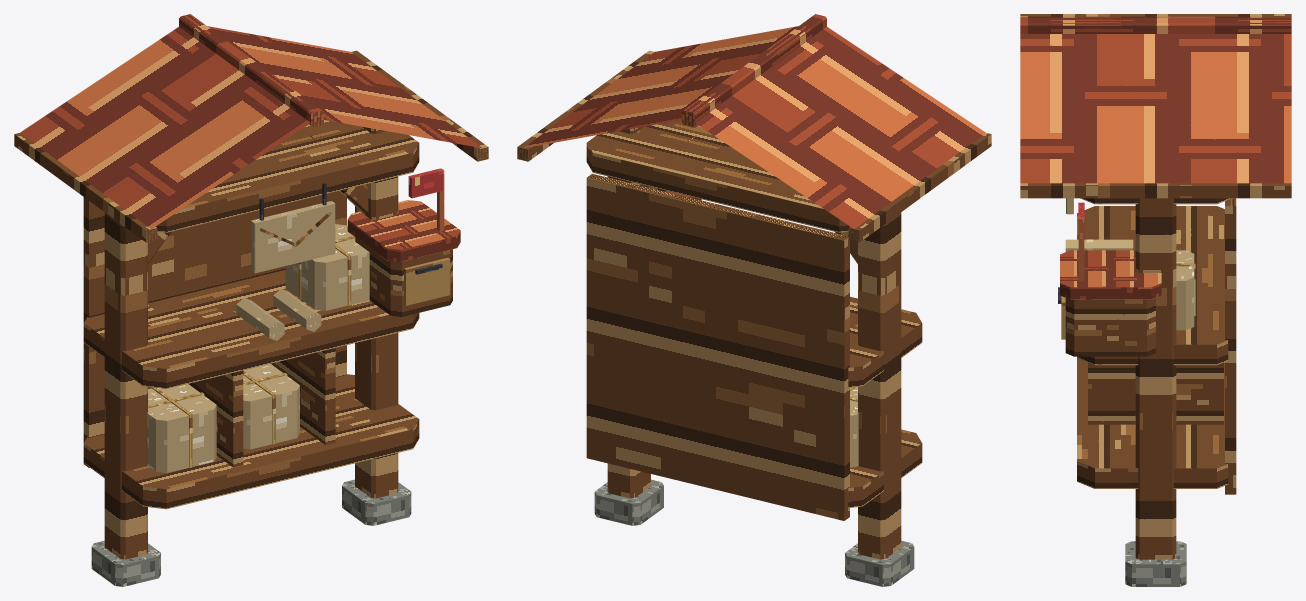
File: outdoor_post_rack.glb
The picture shows the model from 3 angles, left to right: view 1: azimuth 30°, elevation 25°; view 2: azimuth 150°, elevation 25°; view 3: azimuth 270°, elevation 25°; orthographic projection. The views are drawn at different scales.
Parts seen in each view (by area): view 1: outdoor_post_rack; view 2: outdoor_post_rack; view 3: outdoor_post_rack.
Boxes of the visible parts, left/top/right/bottom form: outdoor_post_rack: left=14, top=14, right=488, bottom=586; outdoor_post_rack: left=517, top=14, right=991, bottom=586; outdoor_post_rack: left=1020, top=14, right=1291, bottom=586.
Bounding box in the file's own units: 18 × 24 × 12.
1 material, 1 textured.
